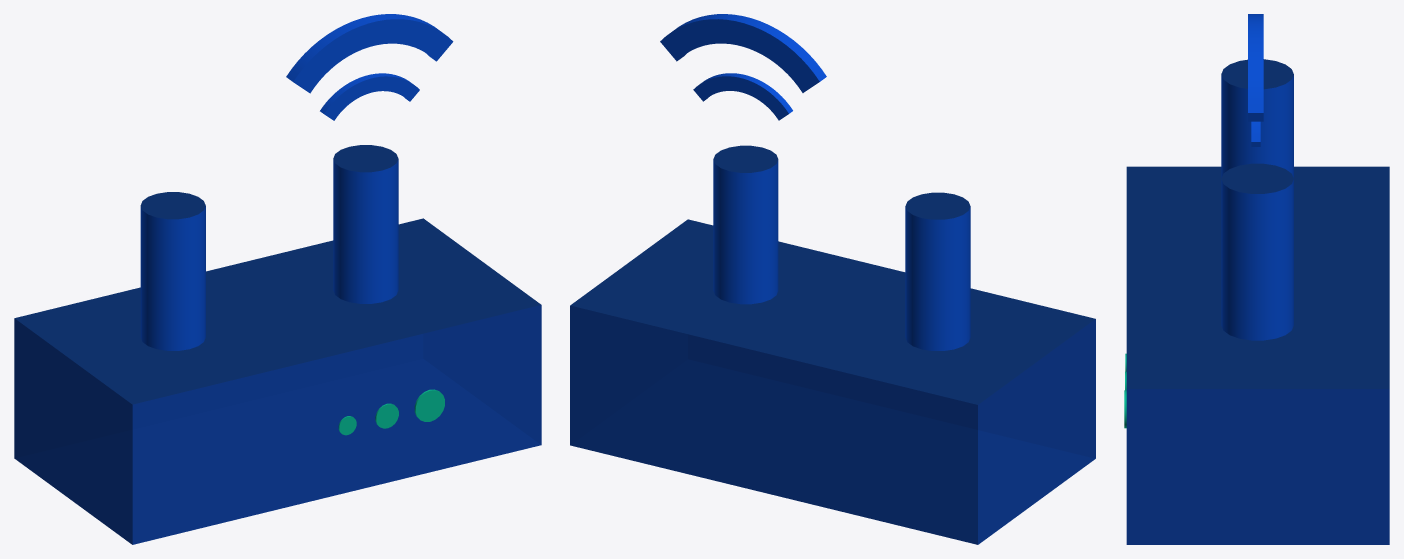
File: router.FBX
3 views of the same model, side by side, from view 1: azimuth 30°, elevation 25°; view 2: azimuth 150°, elevation 25°; view 3: azimuth 270°, elevation 25° (orthographic). The views are drawn at different scales.
Visible parts, largest first — view 1: Box276, 对象409, Cylinder037, Cylinder036, Arc001, Arc002, 对象411, 对象412, Cylinder035; view 2: Box276, 对象409, Cylinder036, Cylinder037, Arc001, Arc002, 对象412, 对象411; view 3: 对象409, Box276, Cylinder037, Cylinder036, 对象411, Arc001, 对象412.
Part boxes in pixels (x1=…): Box276: x1=14, y1=305, x2=541, y2=544; 对象409: x1=14, y1=218, x2=541, y2=404; Cylinder037: x1=333, y1=159, x2=398, y2=303; Cylinder036: x1=140, y1=206, x2=205, y2=350; Arc001: x1=286, y1=14, x2=453, y2=93; Arc002: x1=320, y1=73, x2=419, y2=120; 对象411: x1=333, y1=145, x2=398, y2=172; 对象412: x1=140, y1=192, x2=205, y2=219; Cylinder035: x1=414, y1=389, x2=444, y2=421; Box276: x1=570, y1=305, x2=1095, y2=544; 对象409: x1=570, y1=219, x2=1095, y2=404; Cylinder036: x1=905, y1=206, x2=970, y2=350; Cylinder037: x1=713, y1=160, x2=778, y2=304; Arc001: x1=660, y1=14, x2=826, y2=92; Arc002: x1=693, y1=73, x2=792, y2=120; 对象412: x1=905, y1=192, x2=970, y2=219; 对象411: x1=713, y1=145, x2=778, y2=172; 对象409: x1=1126, y1=166, x2=1389, y2=388; Box276: x1=1126, y1=389, x2=1389, y2=544; Cylinder037: x1=1221, y1=179, x2=1293, y2=340; Cylinder036: x1=1221, y1=75, x2=1293, y2=178; 对象411: x1=1221, y1=163, x2=1293, y2=193; Arc001: x1=1248, y1=14, x2=1263, y2=121; 对象412: x1=1221, y1=59, x2=1293, y2=89.
Bounding box in the file's own units: 672 × 645 × 339.
